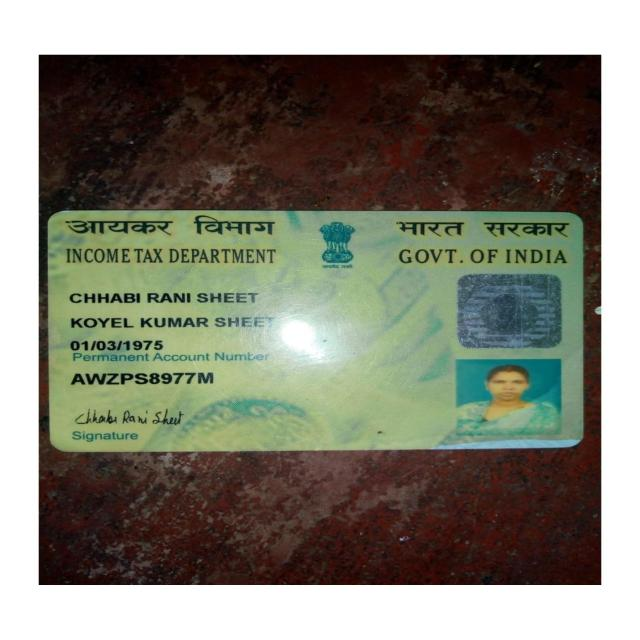pan_card: (49, 211, 579, 451)
